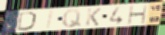4: (109, 6, 125, 26)
D: (17, 11, 37, 32)
H: (127, 4, 149, 26)
I: (45, 10, 55, 30)
K: (84, 8, 102, 27)
Q: (62, 9, 82, 29)
